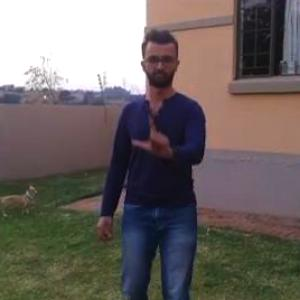land_hand: (131, 105, 179, 168)
